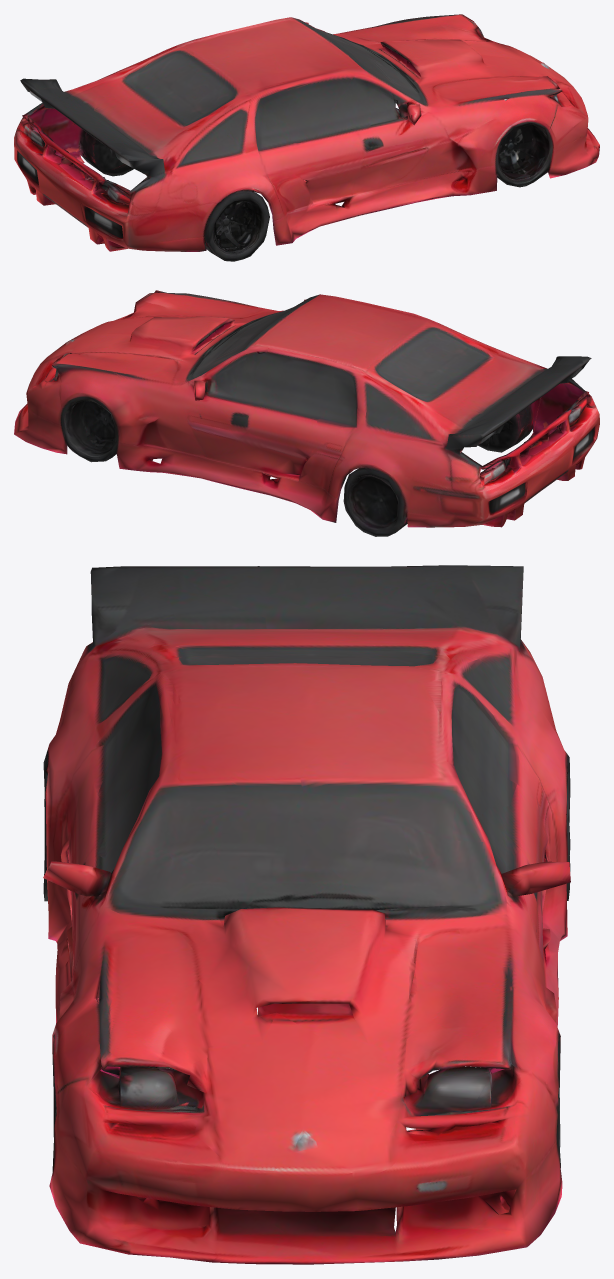
Rendered from Red_Elegance_on_the_B_0603082717_texture.glb.
3 renders of one model, top to bottom at view 1: azimuth 30°, elevation 25°; view 2: azimuth 150°, elevation 25°; view 3: azimuth 270°, elevation 25°, orthographic. The views are drawn at different scales.
Bounding box in the file's own units: 1.98 × 0.5121 × 0.8975.
1 material, 1 textured.
